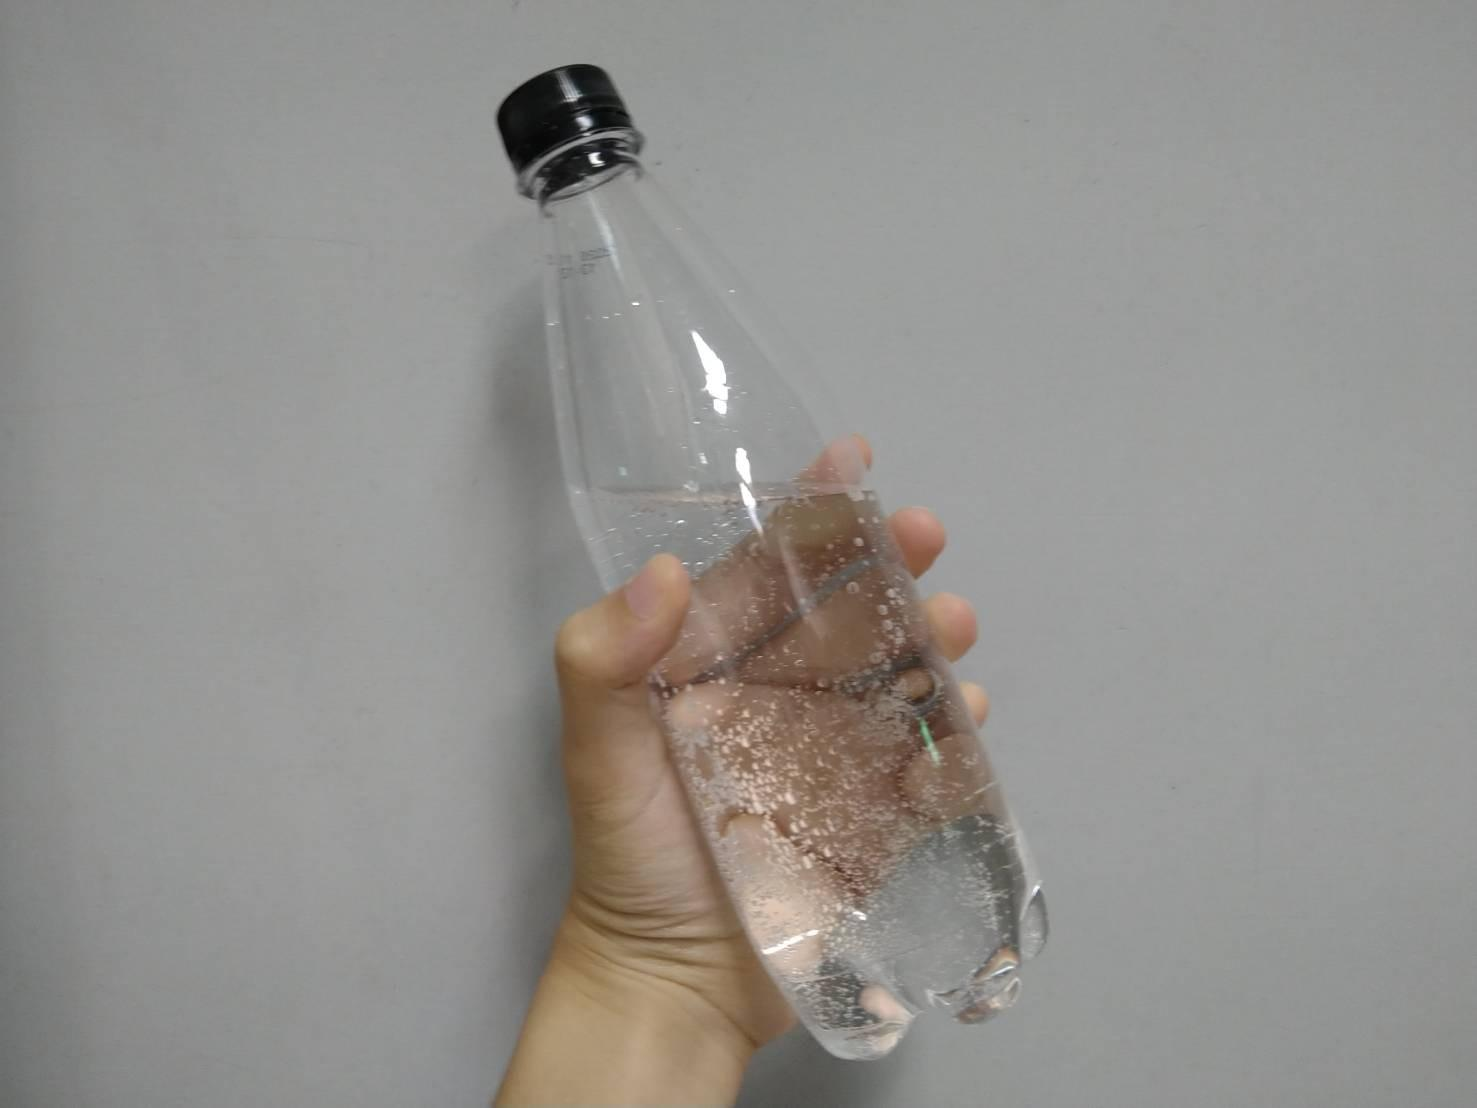bottle: (0, 0, 334, 524)
